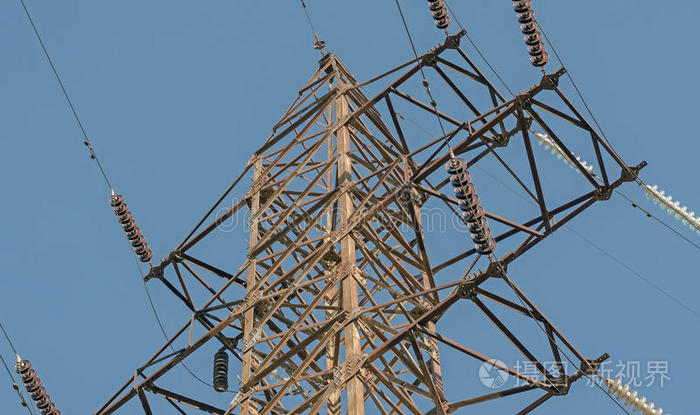insulator: (445, 158, 495, 256), (108, 194, 153, 261), (644, 183, 700, 236), (16, 358, 59, 415), (536, 133, 595, 174), (514, 1, 549, 67), (608, 378, 666, 413), (211, 351, 230, 392), (430, 1, 453, 29)
